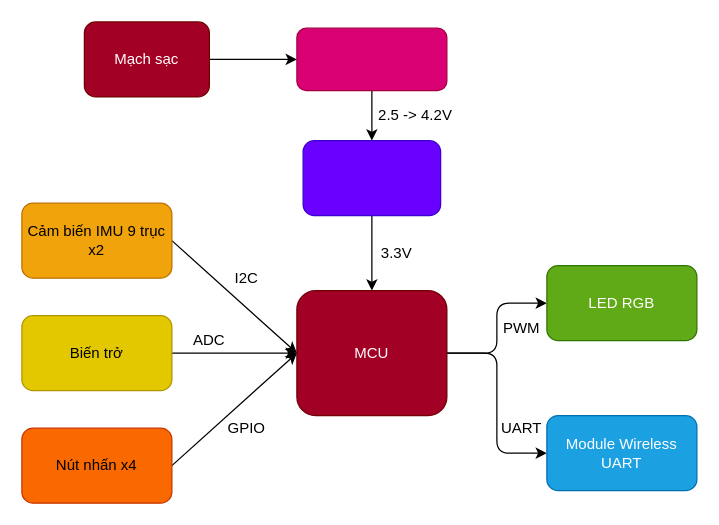
This 719x525 diagram has some shape labels left out. The box of each missing label's shape, as (x1, y1, x2, y2) in pixels:
Mạch ổn áp: (302, 139, 441, 216)
Pin Lipo: (296, 27, 447, 91)
